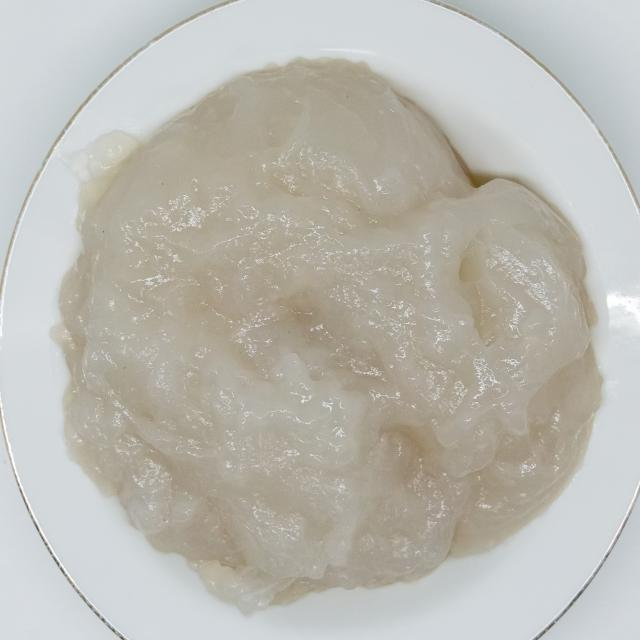Papeda: (58, 41, 612, 601)
